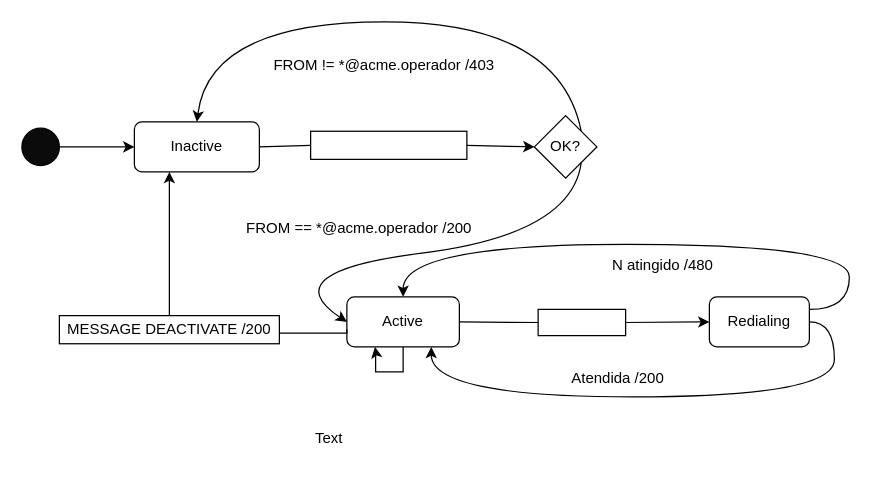
The diagram is 871 pixels wide and 479 high, and some of its shapes have lost their labels. Each missing label, with the centre of its shape:
"INVITE" goes at (x=581, y=322).
"MESSAGE ACTIVATE" goes at (x=388, y=144).
